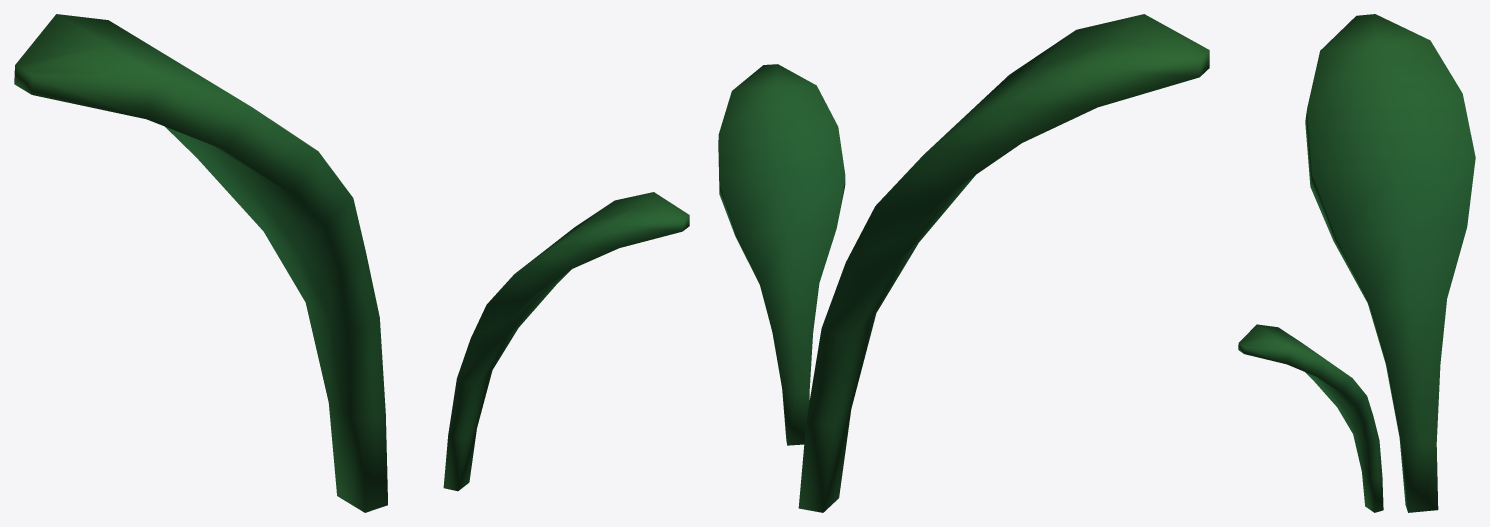
File: flowerleaves3.fbx
3 views of the same model, side by side, from view 1: azimuth 30°, elevation 25°; view 2: azimuth 150°, elevation 25°; view 3: azimuth 270°, elevation 25° (orthographic). The views are drawn at different scales.
Visible parts, largest first — view 1: Cylinder.028; view 2: Cylinder.028; view 3: Cylinder.028.
Part boxes in pixels (bbox=[...]): Cylinder.028: bbox=[14, 14, 689, 512]; Cylinder.028: bbox=[718, 14, 1209, 512]; Cylinder.028: bbox=[1238, 14, 1475, 512].
Bounding box in the file's own units: 11.12 × 10.2 × 5.93.
